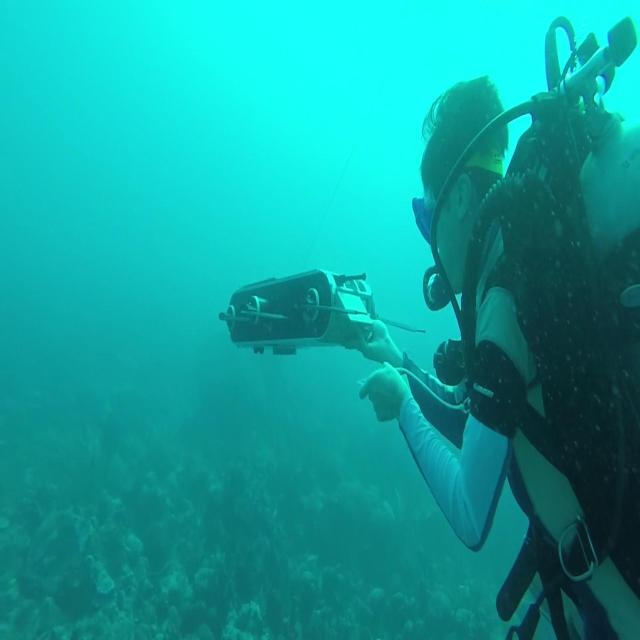human: (354, 17, 638, 637)
